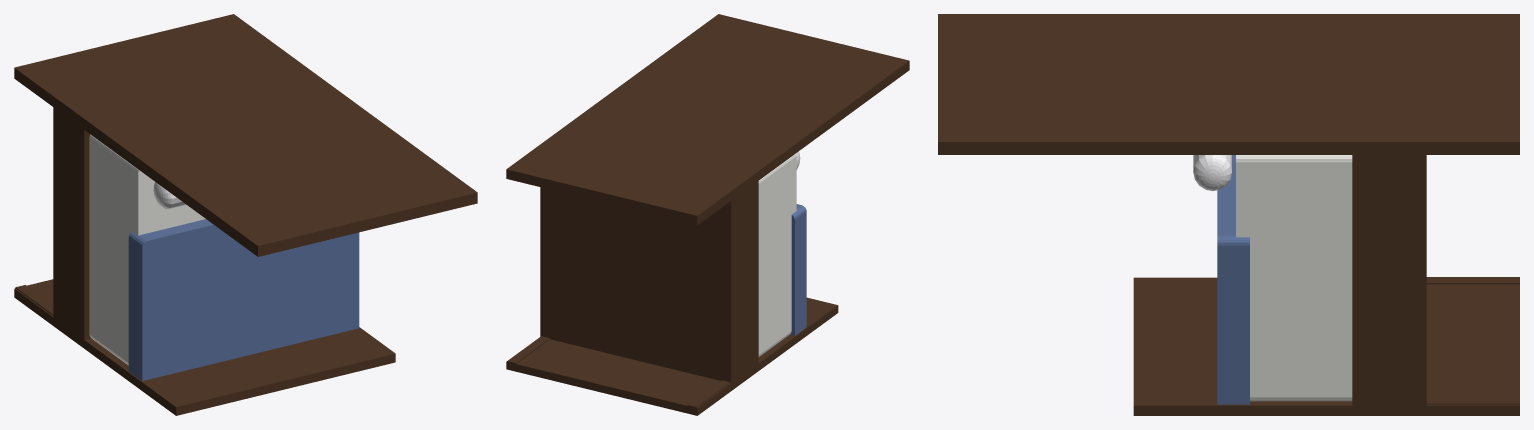
Rendered from bed.obj.
3 views of the same model, side by side, from view 1: azimuth 30°, elevation 25°; view 2: azimuth 150°, elevation 25°; view 3: azimuth 270°, elevation 25° (orthographic). The views are drawn at different scales.
Visible parts, largest first — view 1: frame, blanket, mattress, pillow; view 2: frame, mattress, blanket; view 3: frame, mattress, blanket, pillow.
Part boxes in pixels (left/top/right/bottom): frame: left=14, top=14, right=477, bottom=415; blanket: left=128, top=219, right=359, bottom=380; mattress: left=89, top=134, right=205, bottom=365; pillow: left=153, top=182, right=186, bottom=209; frame: left=506, top=14, right=909, bottom=415; mattress: left=758, top=153, right=796, bottom=356; blanket: left=790, top=204, right=806, bottom=335; frame: left=938, top=14, right=1519, bottom=415; mattress: left=1236, top=155, right=1352, bottom=401; blanket: left=1217, top=155, right=1249, bottom=404; pillow: left=1193, top=155, right=1231, bottom=191.
Size of the model in its own units: 1 by 1 by 1.92.
